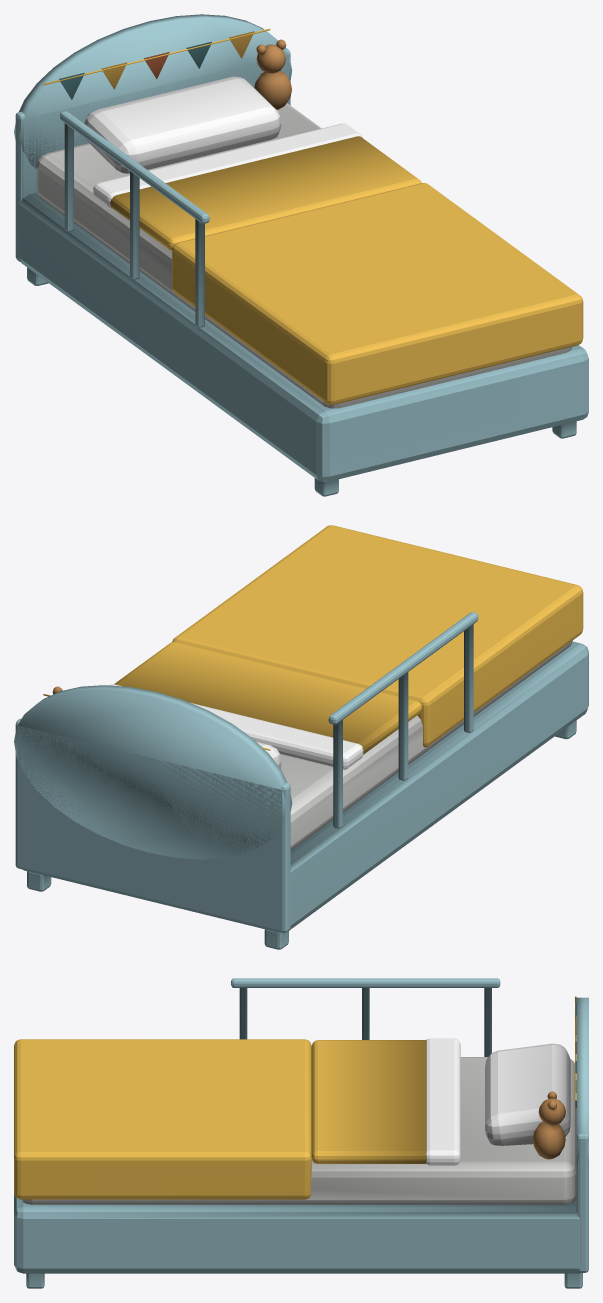
File: kidsBed.glb
The picture shows the model from 3 angles, top to bottom: view 1: azimuth 30°, elevation 25°; view 2: azimuth 150°, elevation 25°; view 3: azimuth 270°, elevation 25°; orthographic projection. The views are drawn at different scales.
Visible parts, largest first — view 1: bed, duvet_flap; view 2: bed, duvet_flap; view 3: bed, duvet_flap.
Part boxes in pixels (x1,y1,x2,y2): bed: [14, 14, 588, 496]; duvet_flap: [93, 123, 421, 250]; bed: [14, 525, 588, 949]; duvet_flap: [109, 642, 421, 769]; bed: [14, 978, 588, 1288]; duvet_flap: [311, 1038, 460, 1165].
Bounding box in the file's own units: 0.97 × 0.764 × 1.88.
